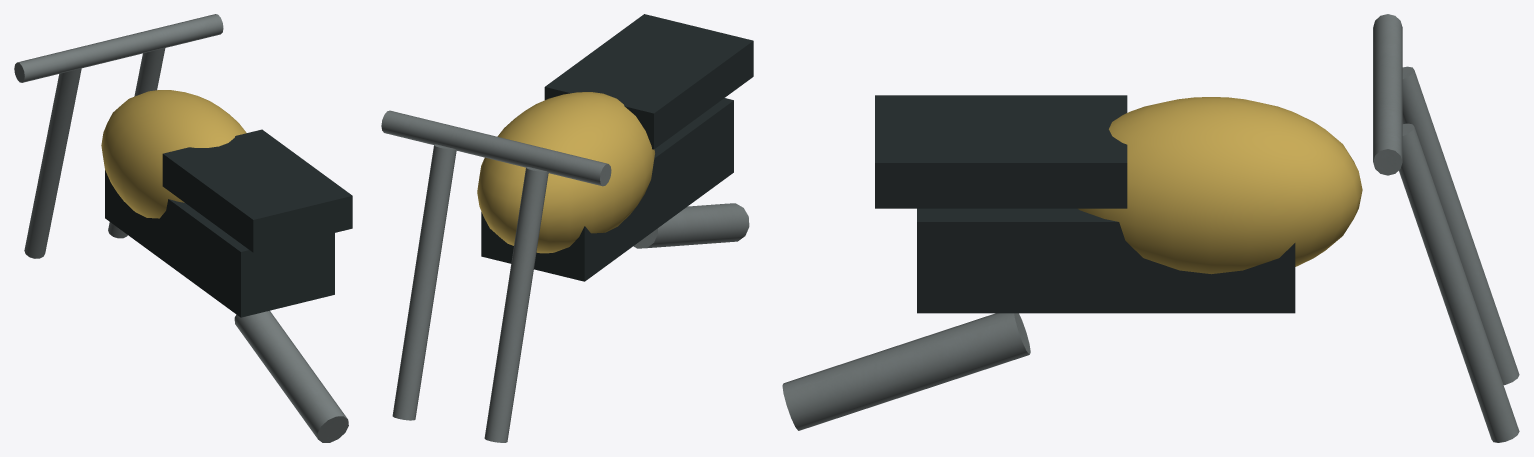
Rendered from vehicle_motorcycle.glb.
The picture shows the model from 3 angles, left to right: view 1: azimuth 30°, elevation 25°; view 2: azimuth 150°, elevation 25°; view 3: azimuth 270°, elevation 25°; orthographic projection. The views are drawn at different scales.
Parts seen in each view (by area): view 1: vehicle_motorcycle; view 2: vehicle_motorcycle; view 3: vehicle_motorcycle.
Boxes of the visible parts, <box> form: vehicle_motorcycle: <box>14,14,352,442</box>; vehicle_motorcycle: <box>381,14,753,442</box>; vehicle_motorcycle: <box>782,14,1519,442</box>.
Bounding box in the file's own units: 0.76 × 0.9114 × 1.75.
3 materials, 1 textured.
